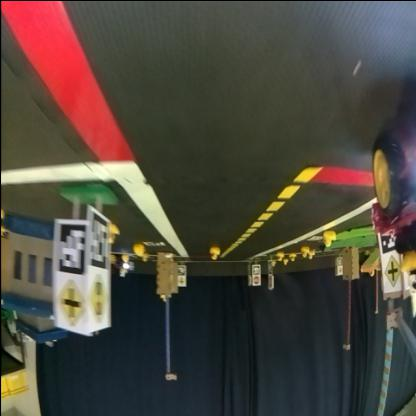Duckie: (108, 223, 120, 244), (323, 230, 335, 247), (210, 247, 219, 260), (135, 245, 145, 254), (301, 247, 309, 256), (290, 253, 296, 261), (277, 252, 283, 260), (308, 251, 314, 259), (142, 254, 148, 262), (122, 254, 128, 262)
Duckiebot: (372, 133, 415, 242)
Intersection sign: (58, 278, 86, 328), (382, 255, 401, 288)
QR code: (57, 222, 85, 274), (89, 214, 108, 268), (254, 265, 260, 275)
Signal sign: (89, 274, 111, 324)
Stop sign: (253, 276, 260, 286)
